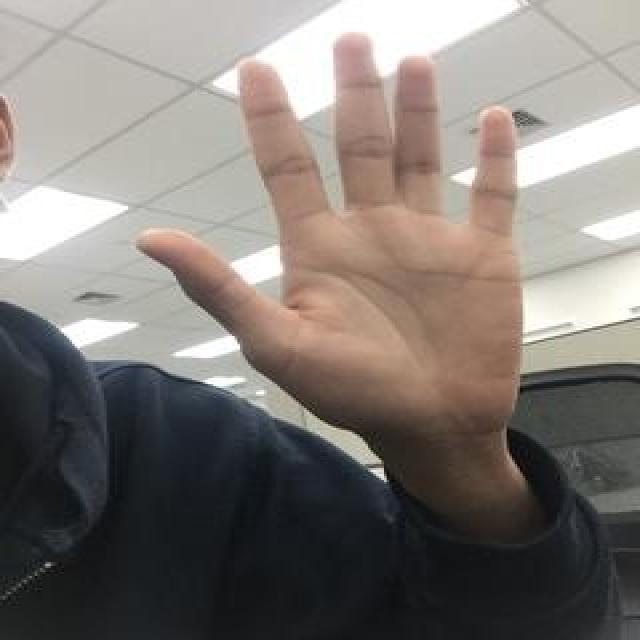no-gloves: (132, 28, 527, 432)
